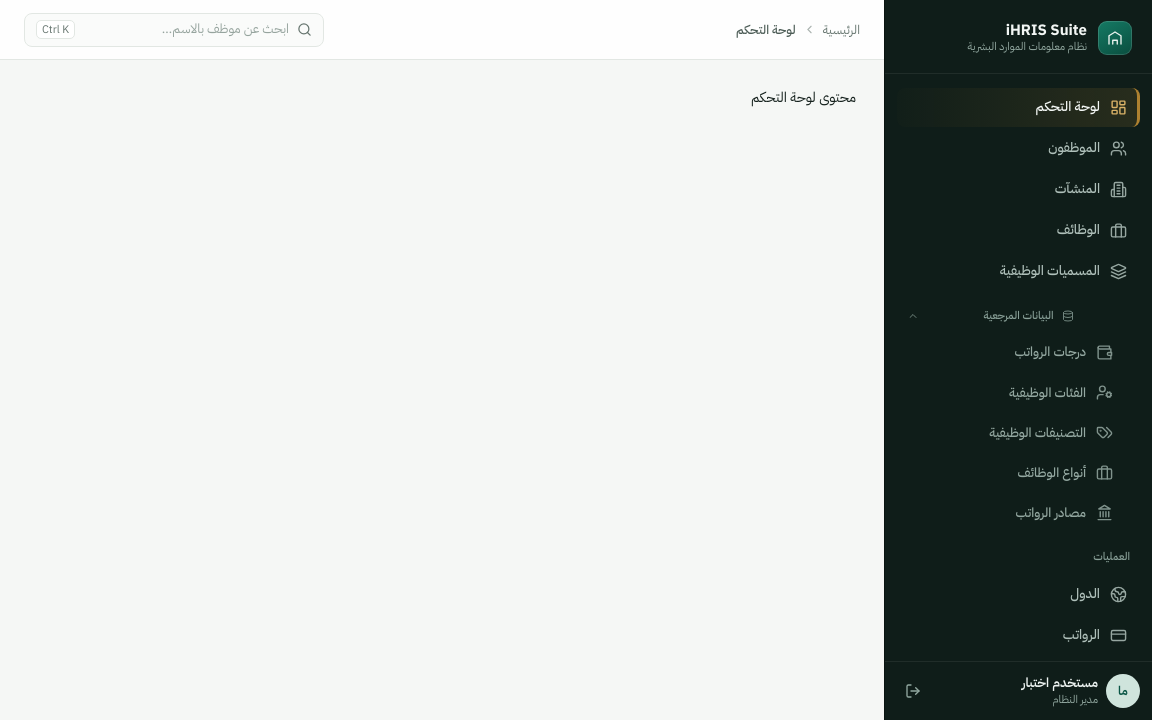
MainLayout — تجميع البيانات المرجعية › يطوي المجموعة ويخفي بنودها عند النقر
This screenshot has width=1152, height=720.
What coordinates should you click on to do the following:
click the button "البيانات المرجعية"
I would click on:
 (1018, 312)
Its box is [897,293,1140,332].
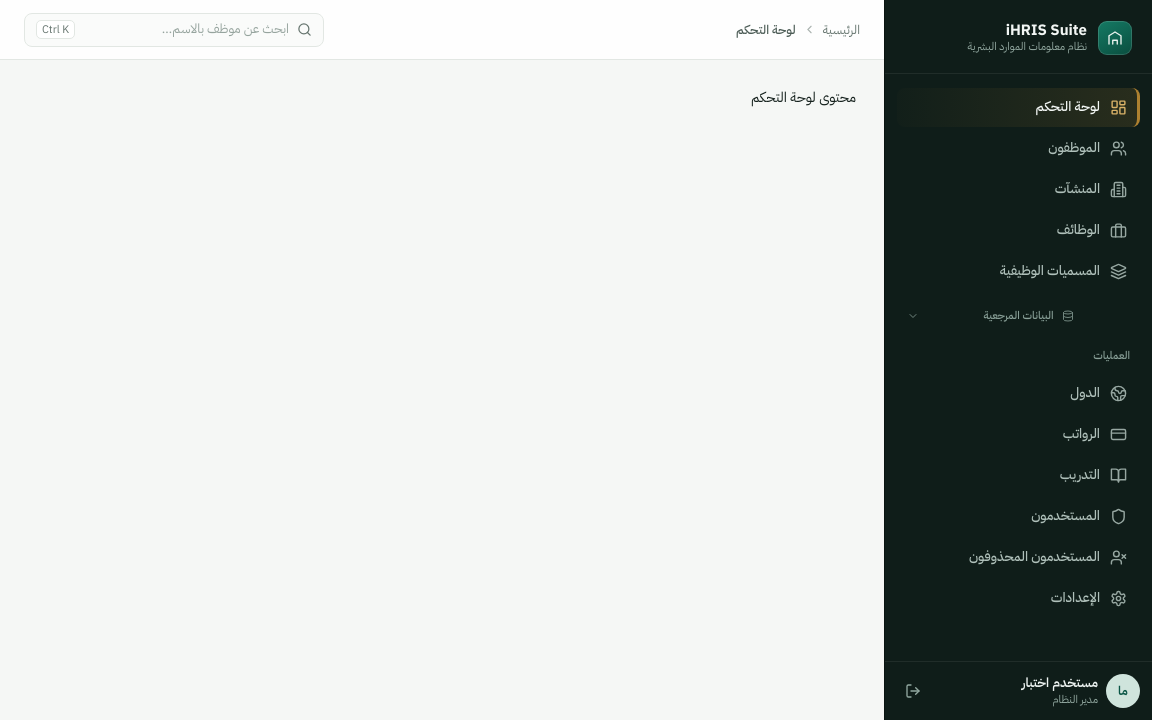
Check: the link "درجات الرواتب" is gone
Check: the link "مصادر الرواتب" is gone
What coordinates should you click on to do the following:
click the button "البيانات المرجعية"
I would click on:
 (1018, 312)
Its box is [897,293,1140,332].
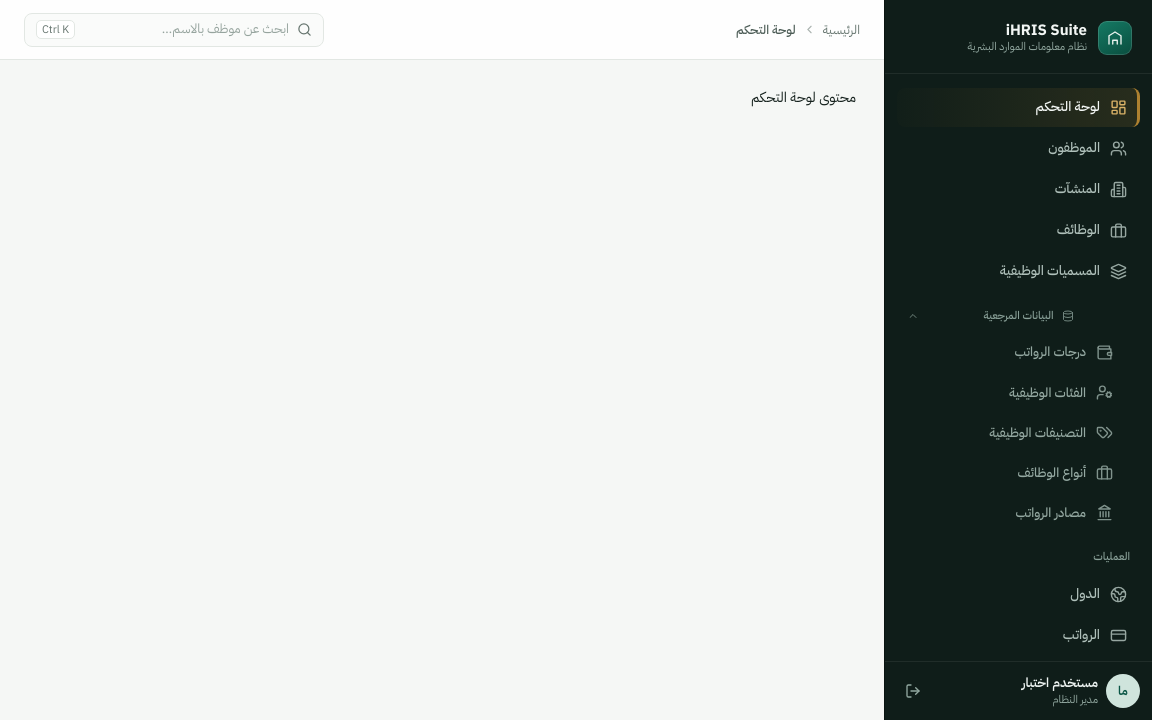
Check: the text "درجات الرواتب" is shown, box [1014,342,1086,364]
